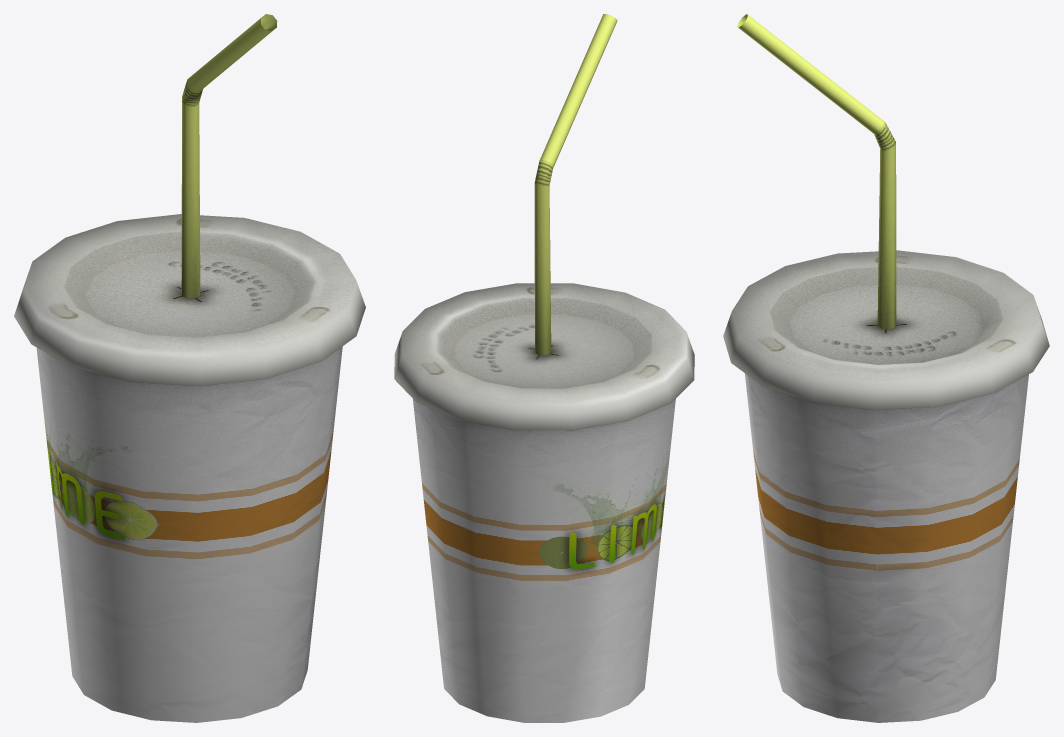
The model's file is drinkCup.fbx.
3 renders of one model, left to right at view 1: azimuth 30°, elevation 25°; view 2: azimuth 150°, elevation 25°; view 3: azimuth 270°, elevation 25°, orthographic. The views are drawn at different scales.
Visible parts, largest first — view 1: drinkCup; view 2: drinkCup; view 3: drinkCup.
Part boxes in pixels (left/top/right/bottom): drinkCup: left=14, top=14, right=365, bottom=722; drinkCup: left=394, top=14, right=694, bottom=722; drinkCup: left=723, top=14, right=1049, bottom=722.
Bounding box in the file's own units: 0.0735 × 0.1644 × 0.0735.
1 material, 1 textured.
